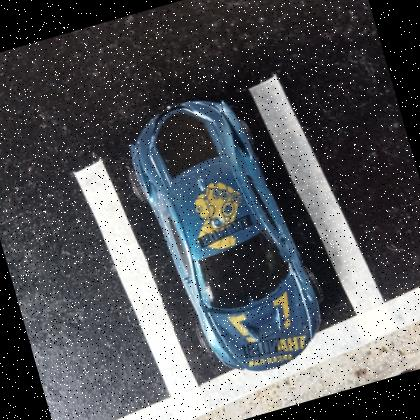Car: (128, 97, 321, 371)
